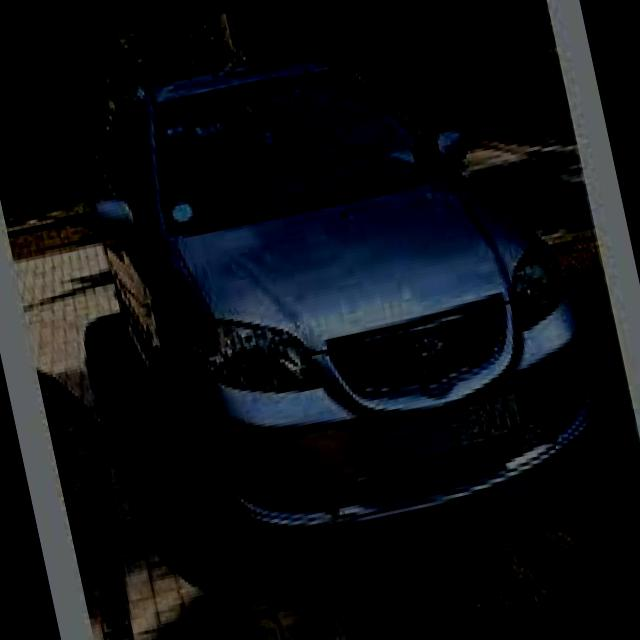ToyotaVios: (55, 2, 620, 597)
